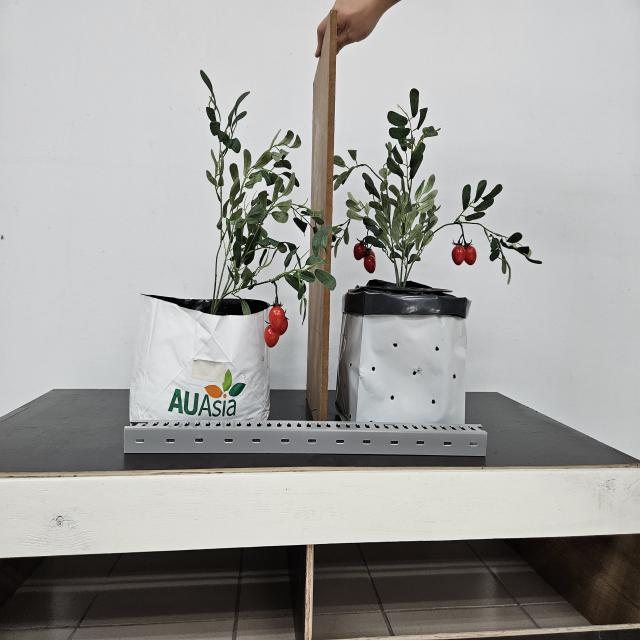Soilbag: (335, 280, 471, 426), (129, 295, 271, 428)
Tomato: (262, 303, 289, 355), (451, 224, 477, 266)
plant: (200, 71, 350, 349), (333, 89, 541, 286)
